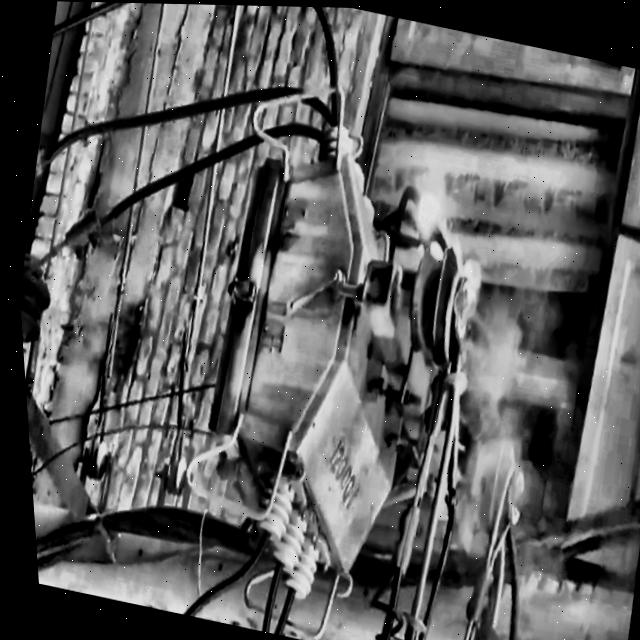Fire: (379, 161, 507, 339)
